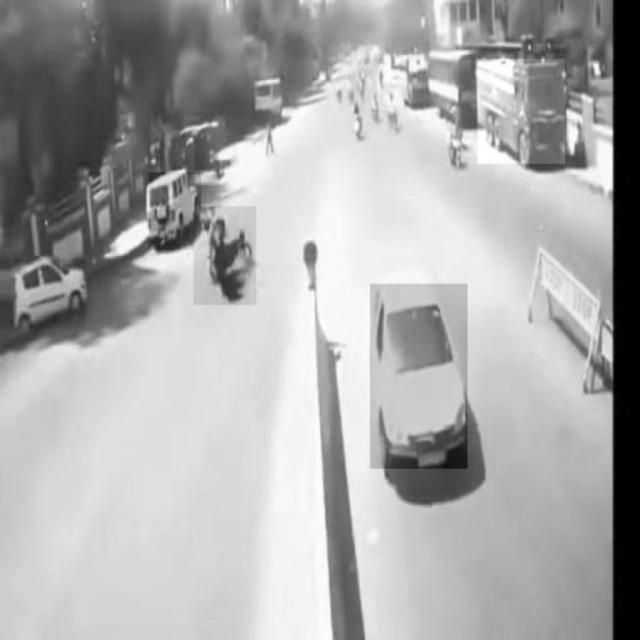accident: (194, 207, 256, 305)
vehicle: (370, 284, 468, 469), (477, 59, 565, 163), (15, 259, 86, 329), (149, 173, 201, 250)
